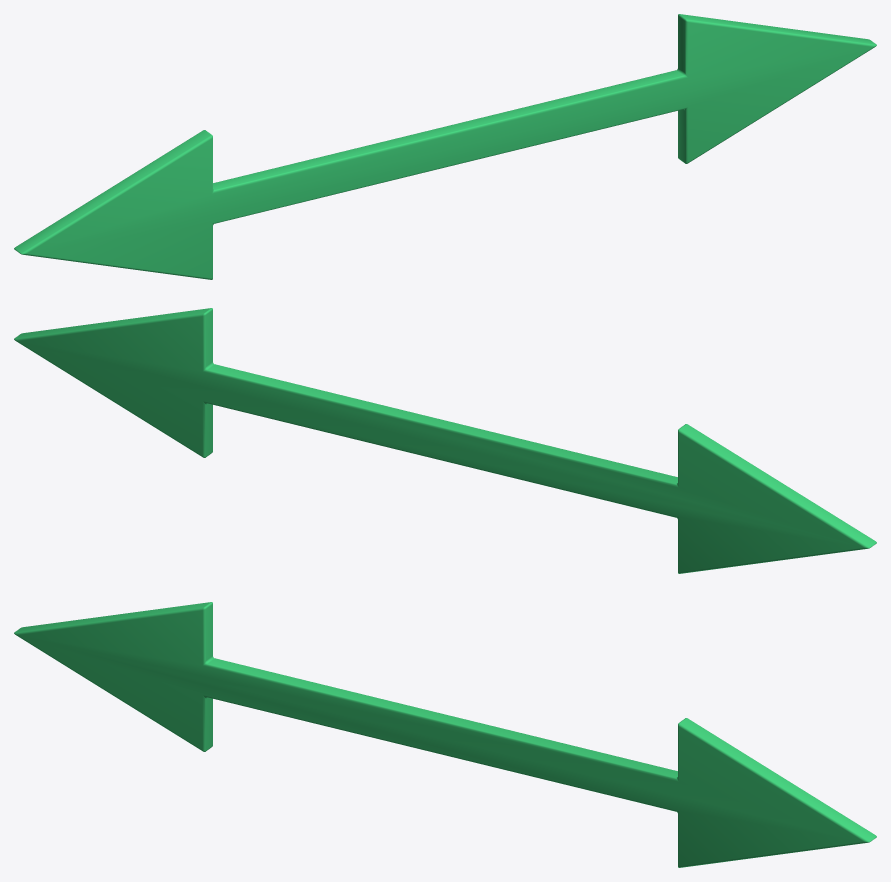
File: sipka_posuvne_celo.glb
The picture shows the model from 3 angles, top to bottom: view 1: azimuth 30°, elevation 25°; view 2: azimuth 150°, elevation 25°; view 3: azimuth 330°, elevation 25°; orthographic projection.
Parts seen in each view (by area): view 1: sipka_posuvne_celo; view 2: sipka_posuvne_celo; view 3: sipka_posuvne_celo.
Boxes of the visible parts, <box> form: sipka_posuvne_celo: <box>14,14,876,279</box>; sipka_posuvne_celo: <box>14,308,876,573</box>; sipka_posuvne_celo: <box>14,602,876,867</box>.
Bounding box in the file's own units: 160 × 25.78 × 3.
